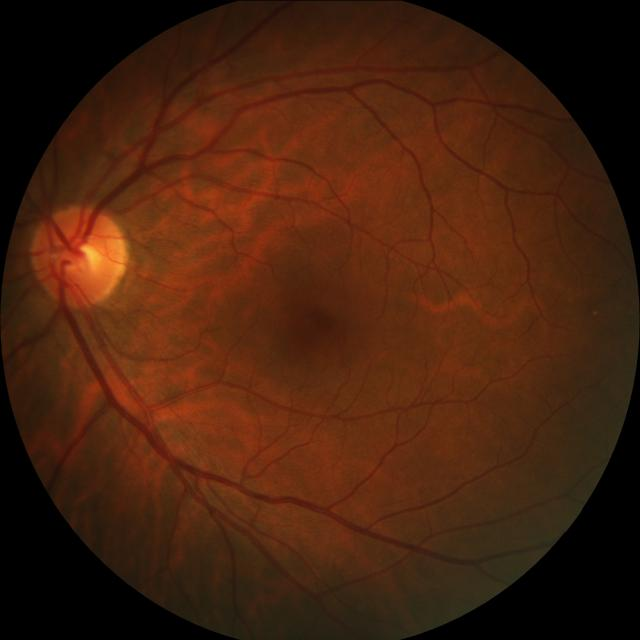OC: (56, 238, 98, 279)
OD: (28, 203, 126, 306)
